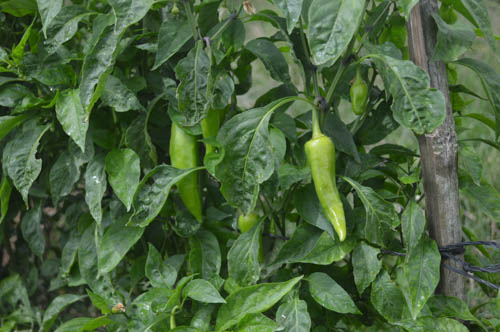ChiliPepper: (306, 137, 347, 239), (169, 125, 202, 221), (349, 80, 370, 116)
